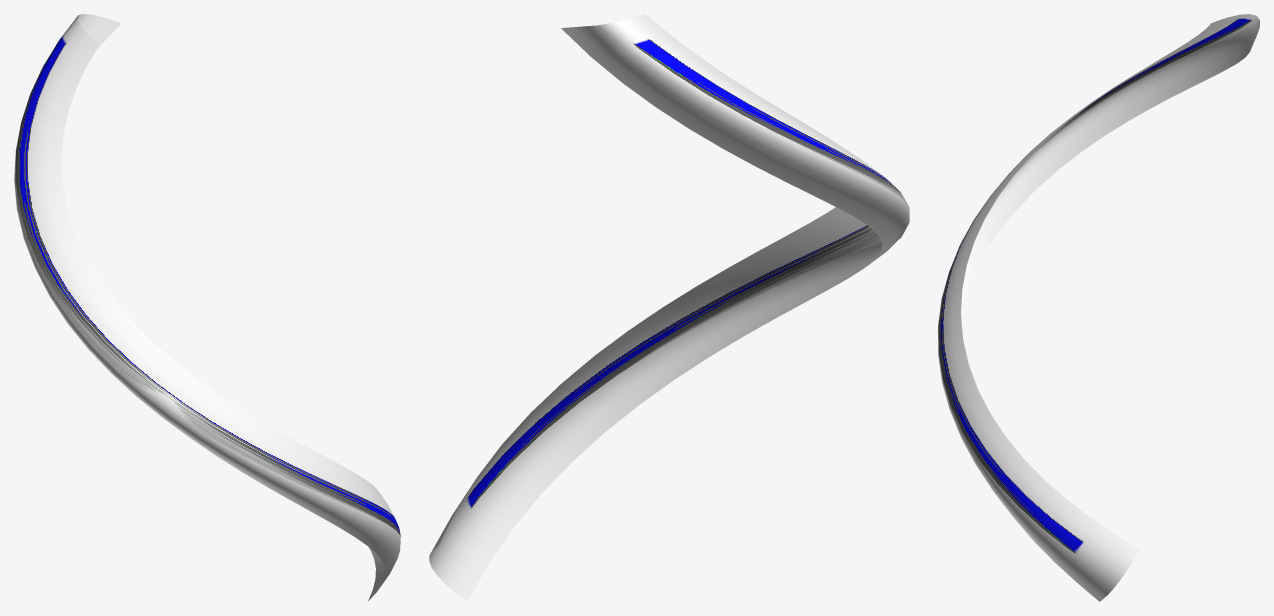
Rendered from Mod_LX_006.FBX.
3 views of the same model, side by side, from view 1: azimuth 30°, elevation 25°; view 2: azimuth 150°, elevation 25°; view 3: azimuth 270°, elevation 25° (orthographic). The views are drawn at different scales.
Visible parts, largest first — view 1: LuoXuan002; view 2: LuoXuan002; view 3: LuoXuan002.
Boxes of the visible parts, <box> form: LuoXuan002: <box>14,14,400,600</box>; LuoXuan002: <box>429,14,909,601</box>; LuoXuan002: <box>938,14,1259,601</box>.
Size of the model in its own units: 17041 by 26995 by 15737.
